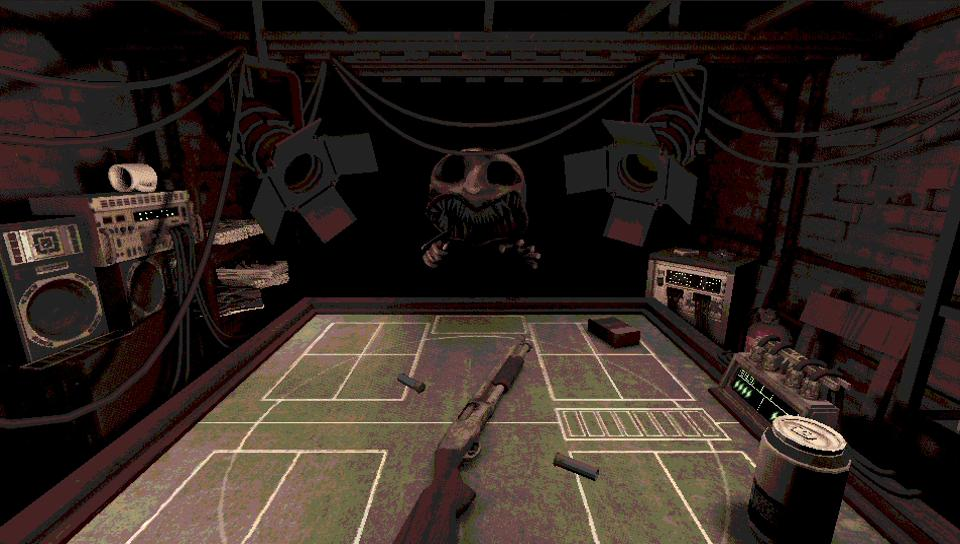ally: (33, 405, 914, 543)
can: (747, 417, 853, 543)
cigar: (588, 314, 641, 349)
emptyspace: (127, 447, 295, 543), (573, 449, 722, 543), (238, 451, 388, 543), (263, 351, 360, 399), (605, 352, 693, 398), (538, 354, 620, 397), (337, 350, 415, 395), (305, 319, 383, 358), (364, 322, 427, 356), (535, 321, 595, 356)
enemyspace: (210, 305, 756, 412)
gun: (386, 337, 535, 543)
